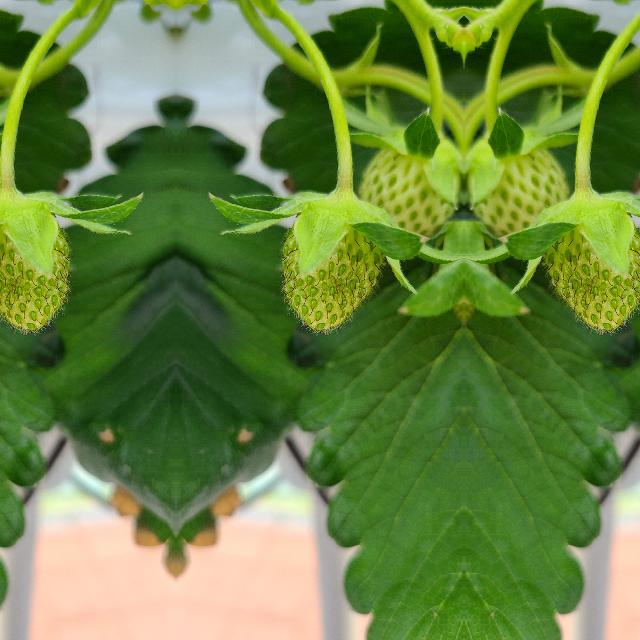Health_25: (281, 226, 381, 330), (545, 226, 640, 329), (0, 226, 69, 329)
